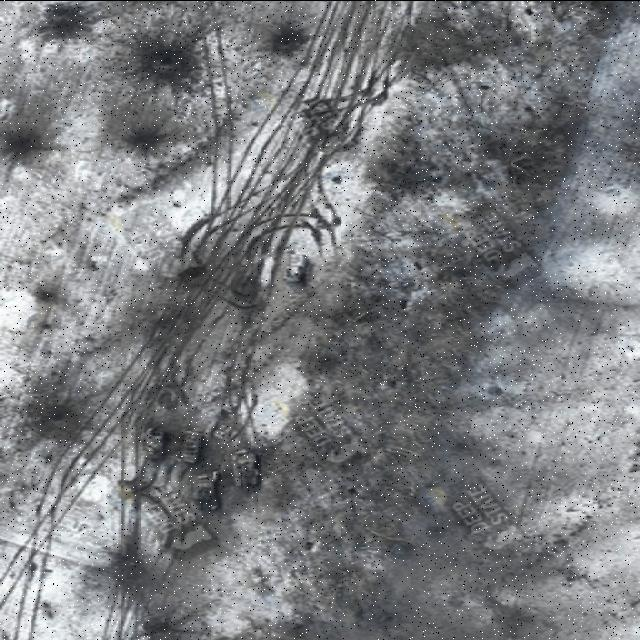APC-IFV: (274, 252, 314, 288), (171, 430, 207, 468), (138, 430, 166, 459)
TANK: (228, 450, 262, 498), (189, 474, 218, 522)
